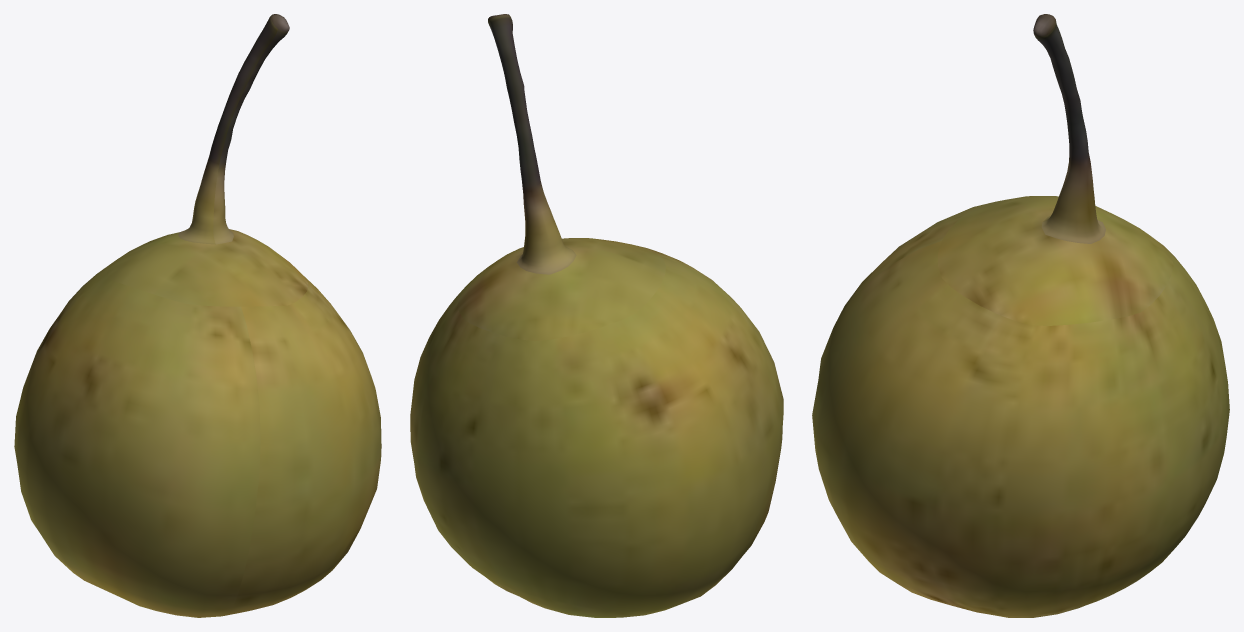
The model's file is pear.glb.
3 views of the same model, side by side, from view 1: azimuth 30°, elevation 25°; view 2: azimuth 150°, elevation 25°; view 3: azimuth 270°, elevation 25° (orthographic). The views are drawn at different scales.
Parts seen in each view (by area): view 1: food_pears_asian_01_c; view 2: food_pears_asian_01_c; view 3: food_pears_asian_01_c.
Part boxes in pixels (bbox=[...]): food_pears_asian_01_c: bbox=[14, 14, 381, 617]; food_pears_asian_01_c: bbox=[410, 14, 783, 617]; food_pears_asian_01_c: bbox=[812, 14, 1229, 617].
Size of the model in its own units: 0.044 by 0.0712 by 0.0445.
Materials: 1 (1 with a texture image).
